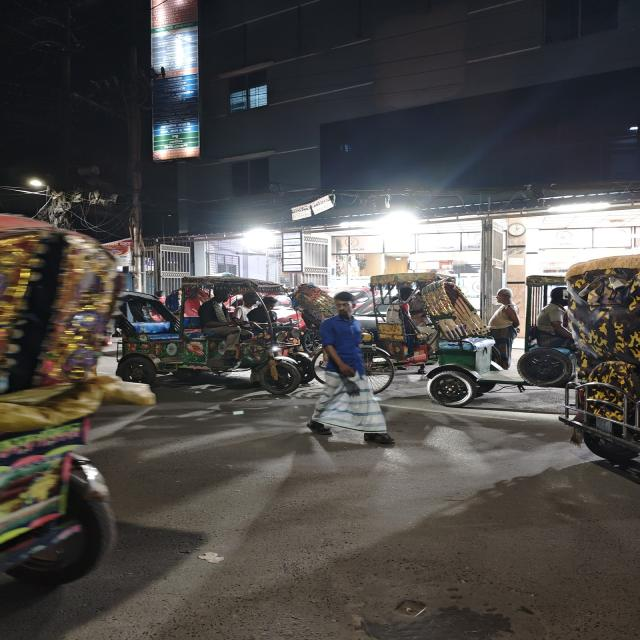pedestrian: (304, 297, 397, 450)
rickshaw: (0, 225, 123, 588), (404, 272, 604, 415), (110, 285, 306, 402), (568, 260, 640, 474)
